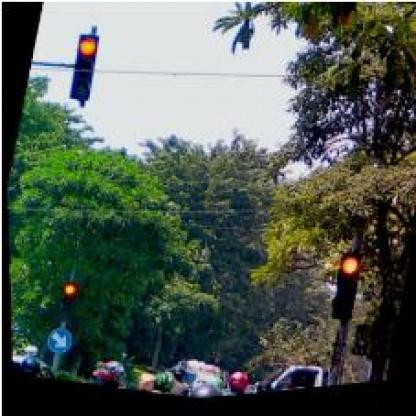red: (325, 257, 360, 329), (65, 32, 100, 104)
